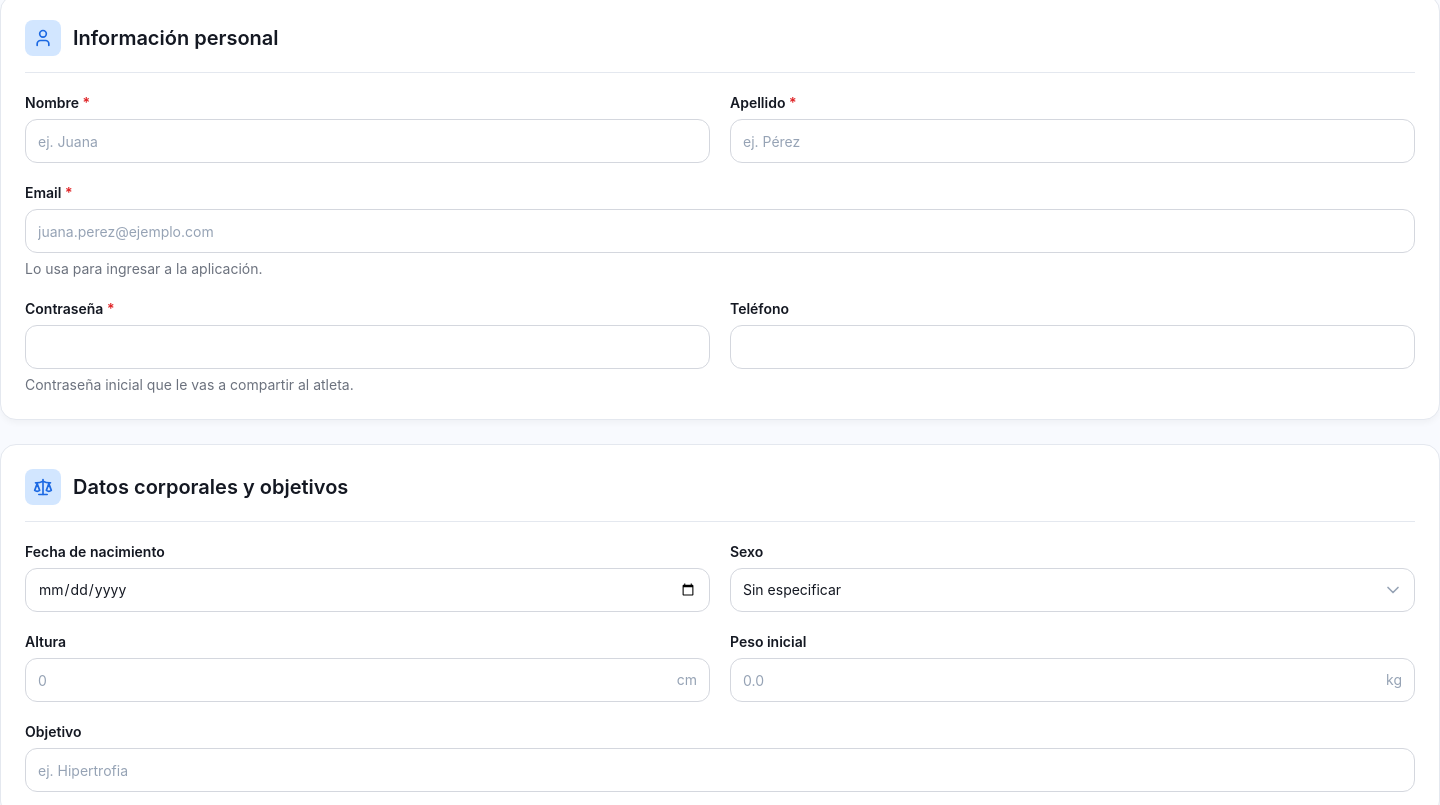
Test case: RegisterAthleteForm › muestra el mensaje del backend cuando el email ya existe
The image size is (1440, 805).
Type " Juana " into the field labelled "Nombre *" at (368, 141), box [25,119,710,163]
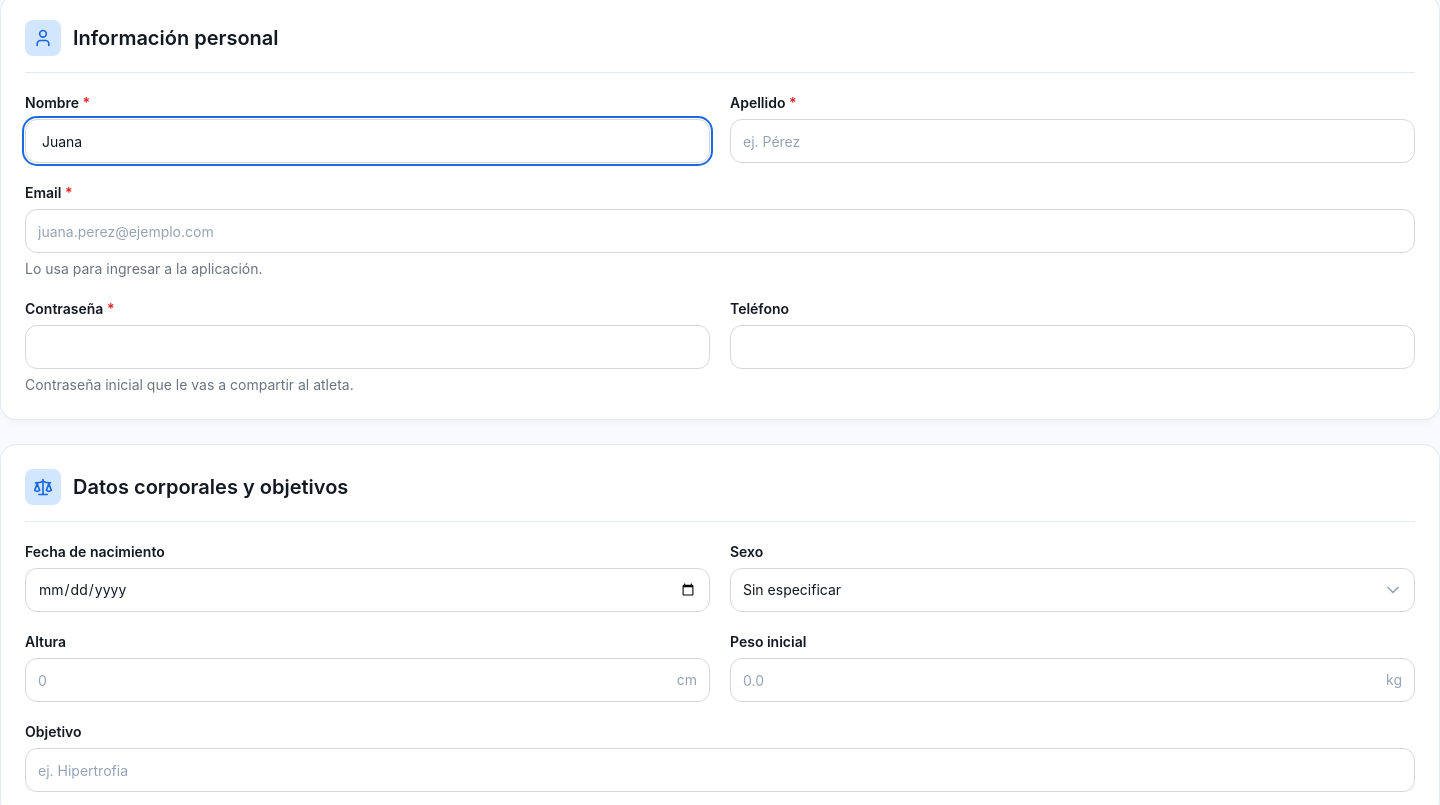
Type "Pérez" into the field labelled "Apellido *" at (1072, 141), box [730,119,1415,163]
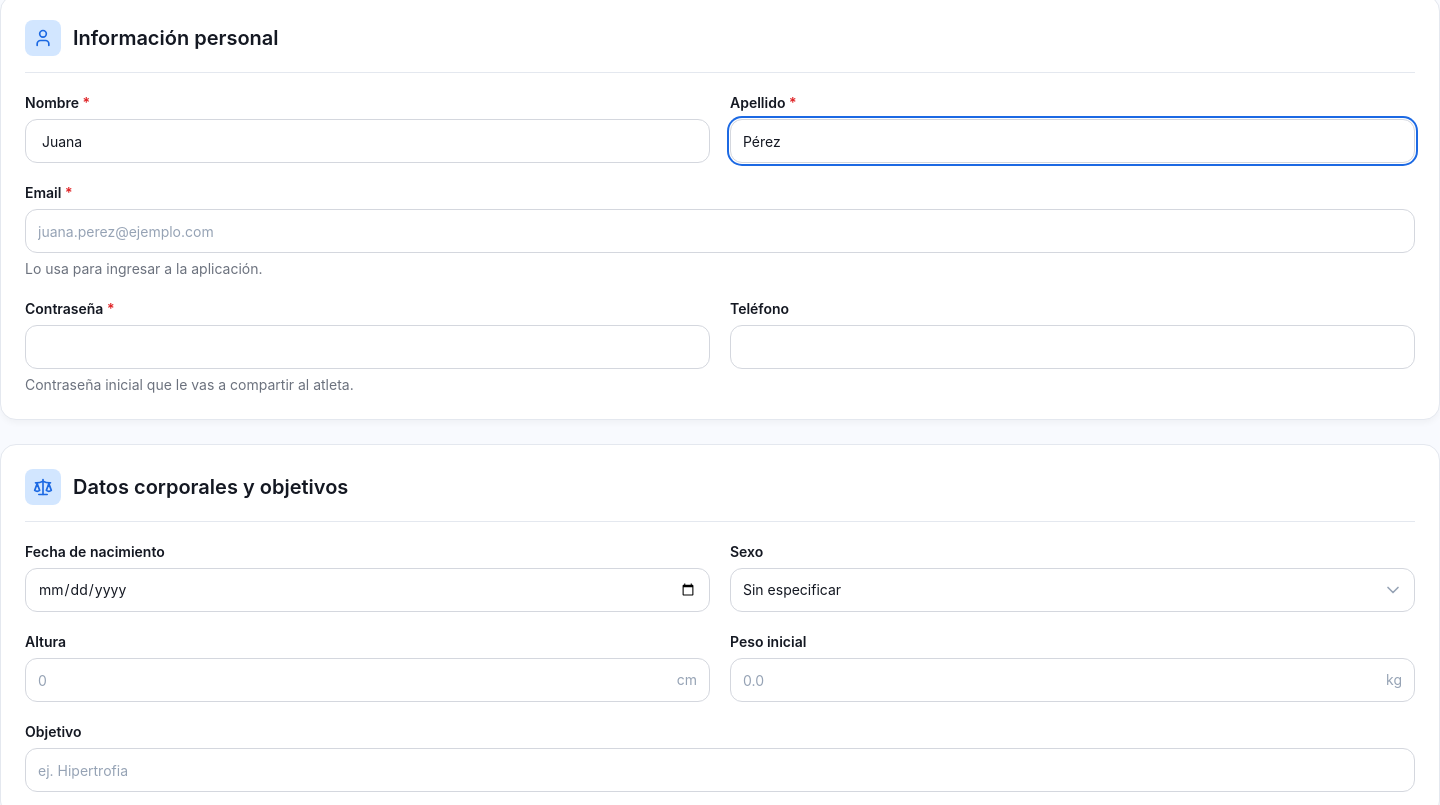
Type "juana@example.com" into the field labelled "Email *" at (720, 231), box [25,209,1415,253]
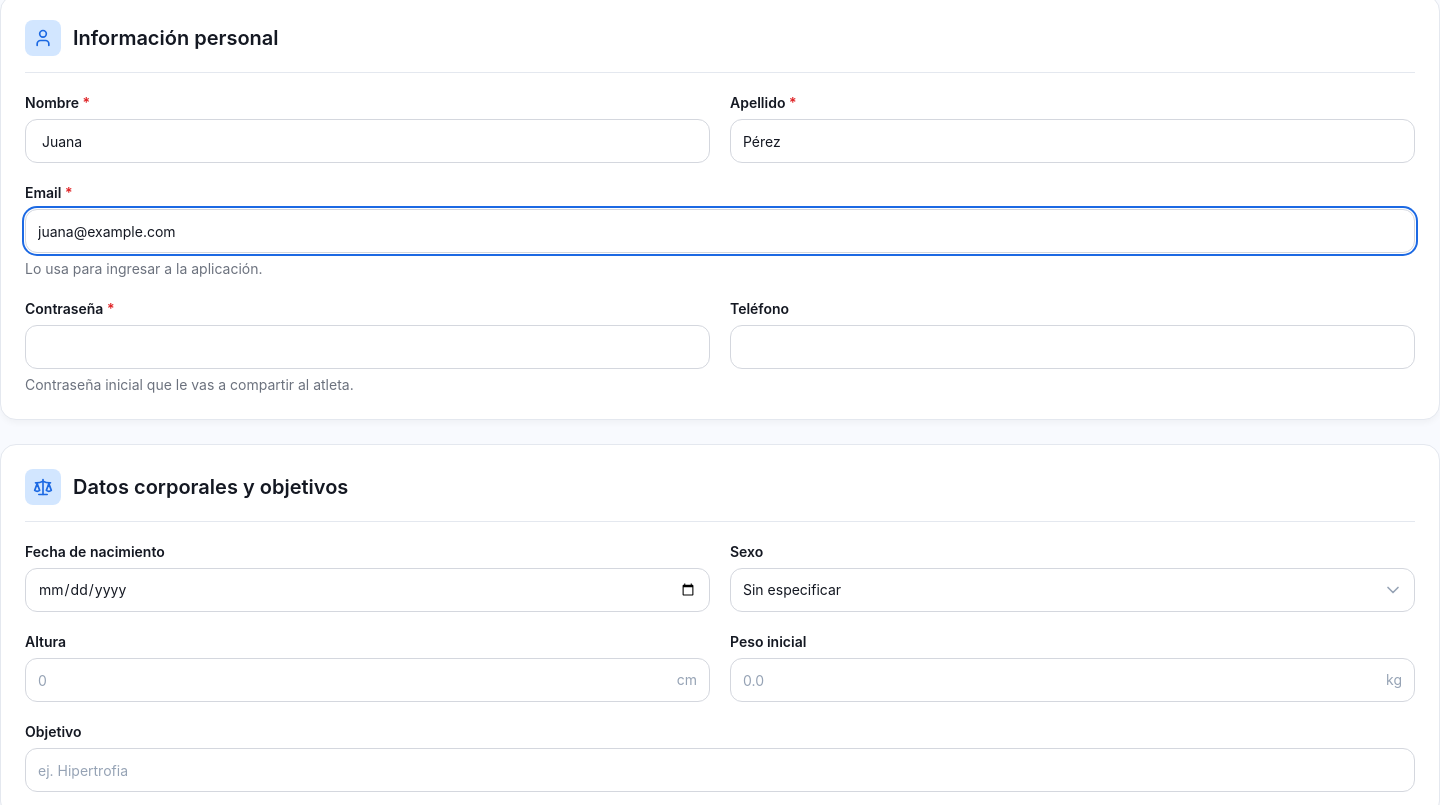
Type "12345678" into the password field labelled "Contraseña *" at (368, 347), box [25,325,710,369]
(page scrolled)
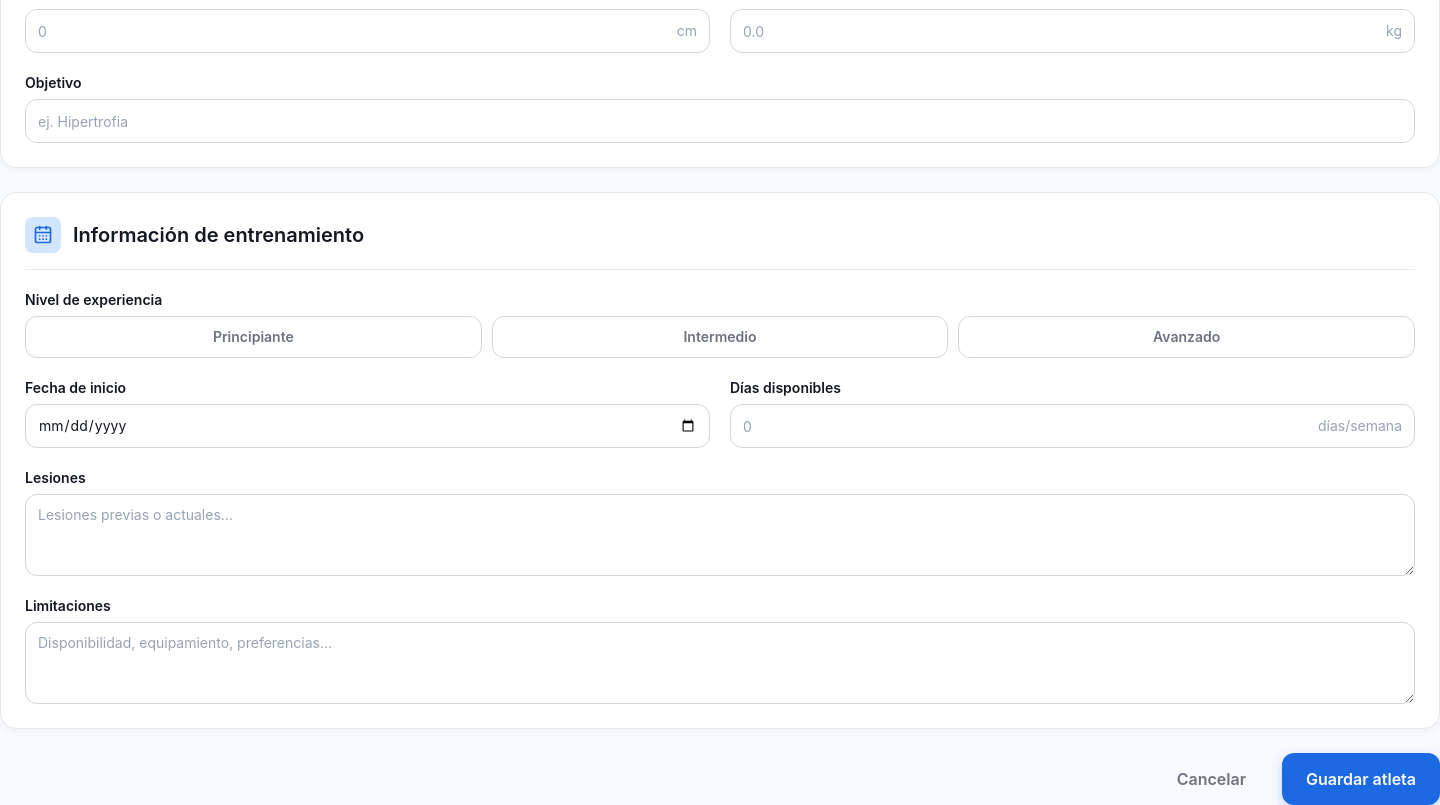
Click the button "Guardar atleta" at (1361, 779), box [1282,753,1439,804]
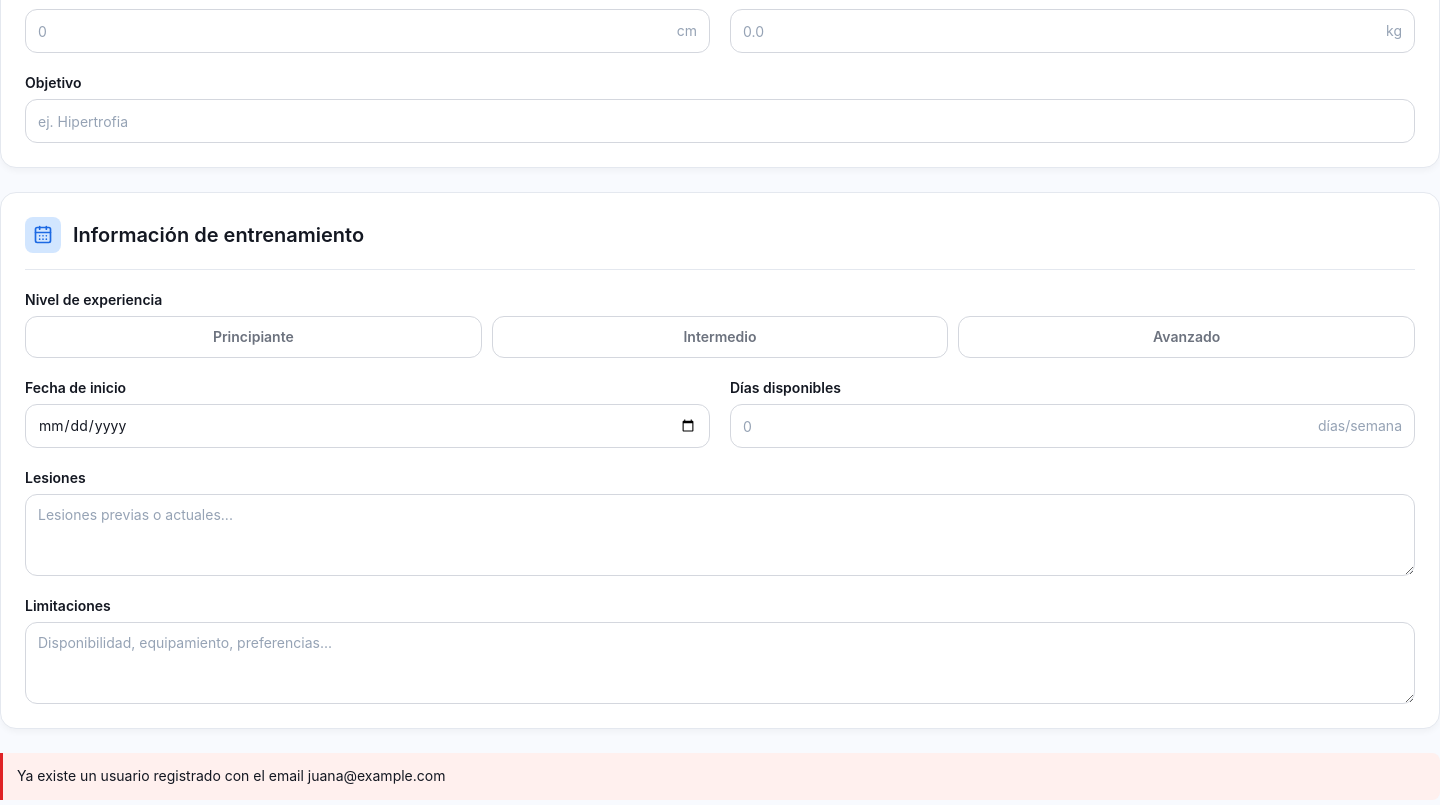
Now the message reads "Ya existe un usuario registrado con el email juana@example.com", box [17,767,446,784]
